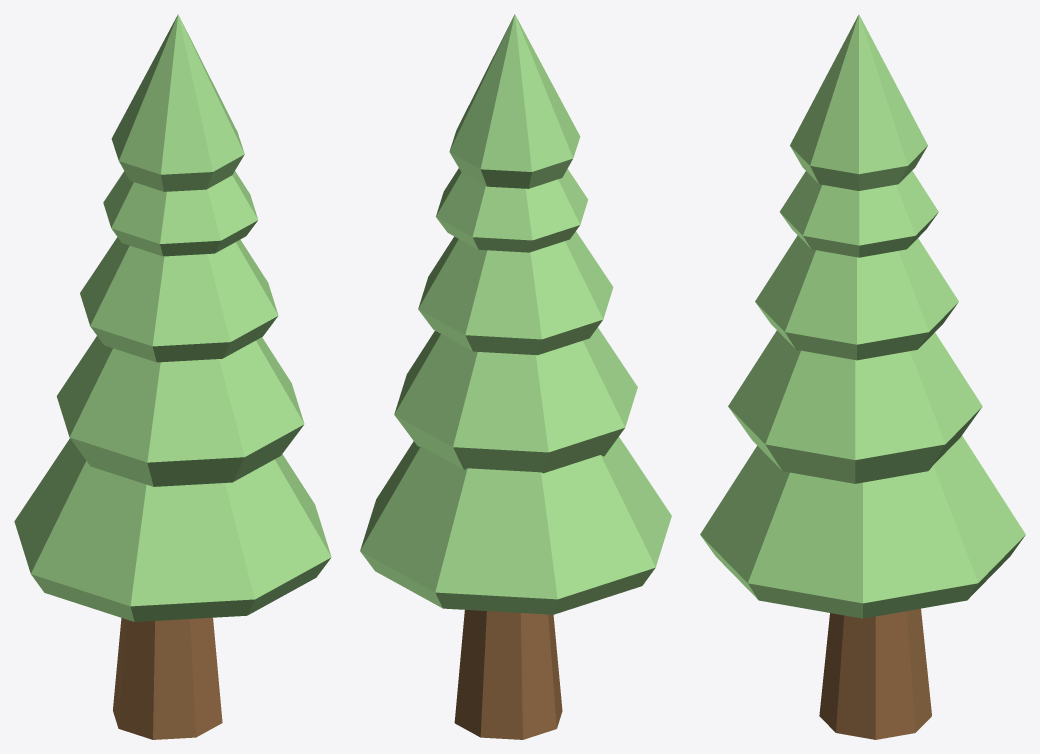
Rendered from Pohon Cemara.fbx.
3 views of the same model, side by side, from view 1: azimuth 30°, elevation 25°; view 2: azimuth 150°, elevation 25°; view 3: azimuth 270°, elevation 25° (orthographic).
Visible parts, largest first — view 1: Cone.001; view 2: Cone.001; view 3: Cone.001.
Part boxes in pixels (x1,y1,x2,y2): Cone.001: (14, 14, 331, 739); Cone.001: (360, 14, 671, 739); Cone.001: (700, 14, 1025, 739).
Size of the model in its own units: 489 by 1164 by 489.
